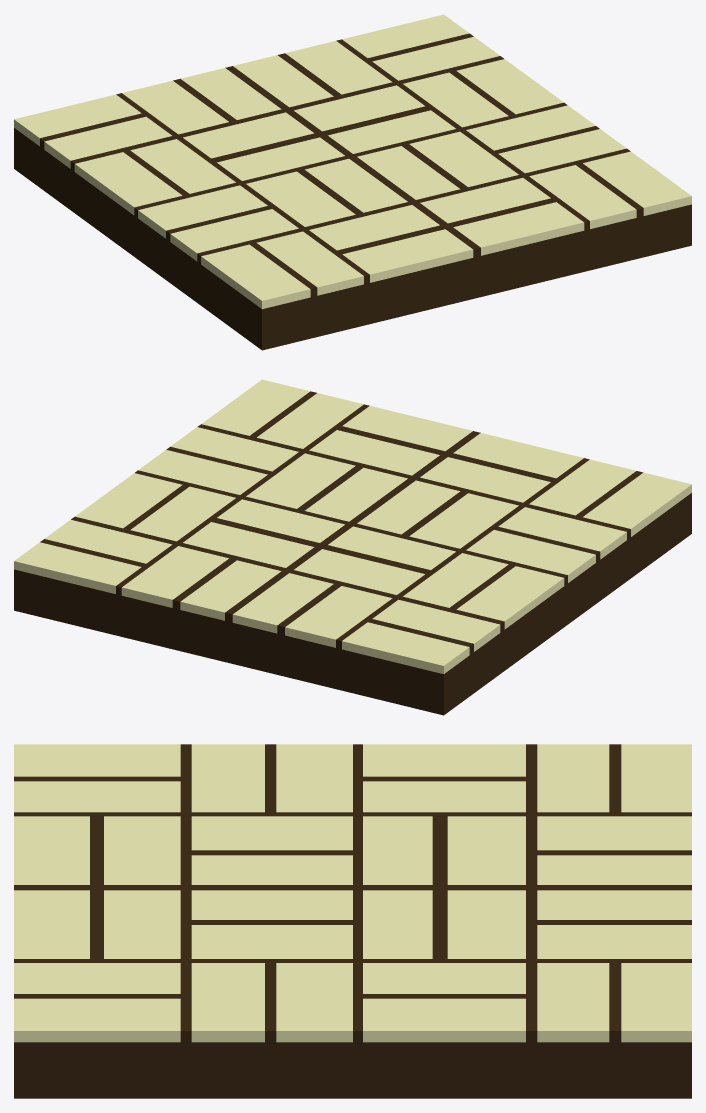
Rendered from Platform.fbx.
The picture shows the model from 3 angles, top to bottom: view 1: azimuth 30°, elevation 25°; view 2: azimuth 150°, elevation 25°; view 3: azimuth 270°, elevation 25°; orthographic projection. The views are drawn at different scales.
Visible parts, largest first — view 1: Cube.003; view 2: Cube.003; view 3: Cube.003.
Boxes of the visible parts, left/top/right/bottom form: Cube.003: left=14, top=14, right=691, bottom=350; Cube.003: left=14, top=379, right=691, bottom=715; Cube.003: left=14, top=744, right=691, bottom=1098.
Size of the model in its own units: 984 by 108 by 984.
